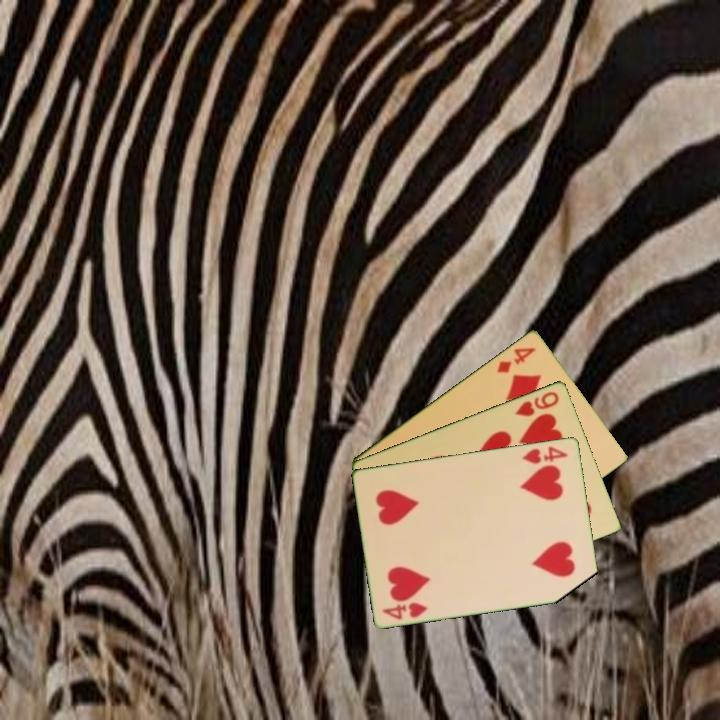4d: (493, 343, 538, 376)
4h: (519, 442, 571, 466), (379, 598, 430, 622)
9h: (511, 388, 562, 419)
